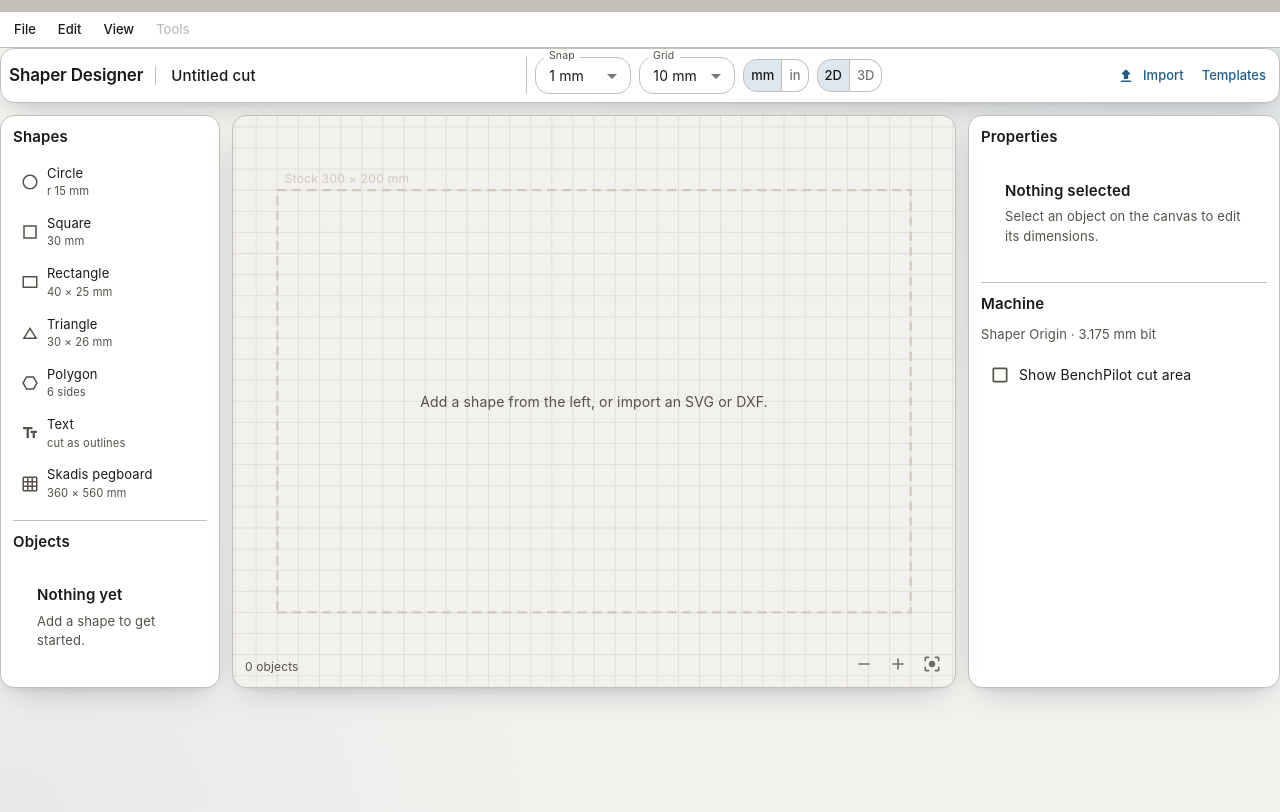
undo removes the object that was just added
Step 1. Click the button "Triangle 30 × 26 mm" → (67, 332), box [21, 316, 112, 349]
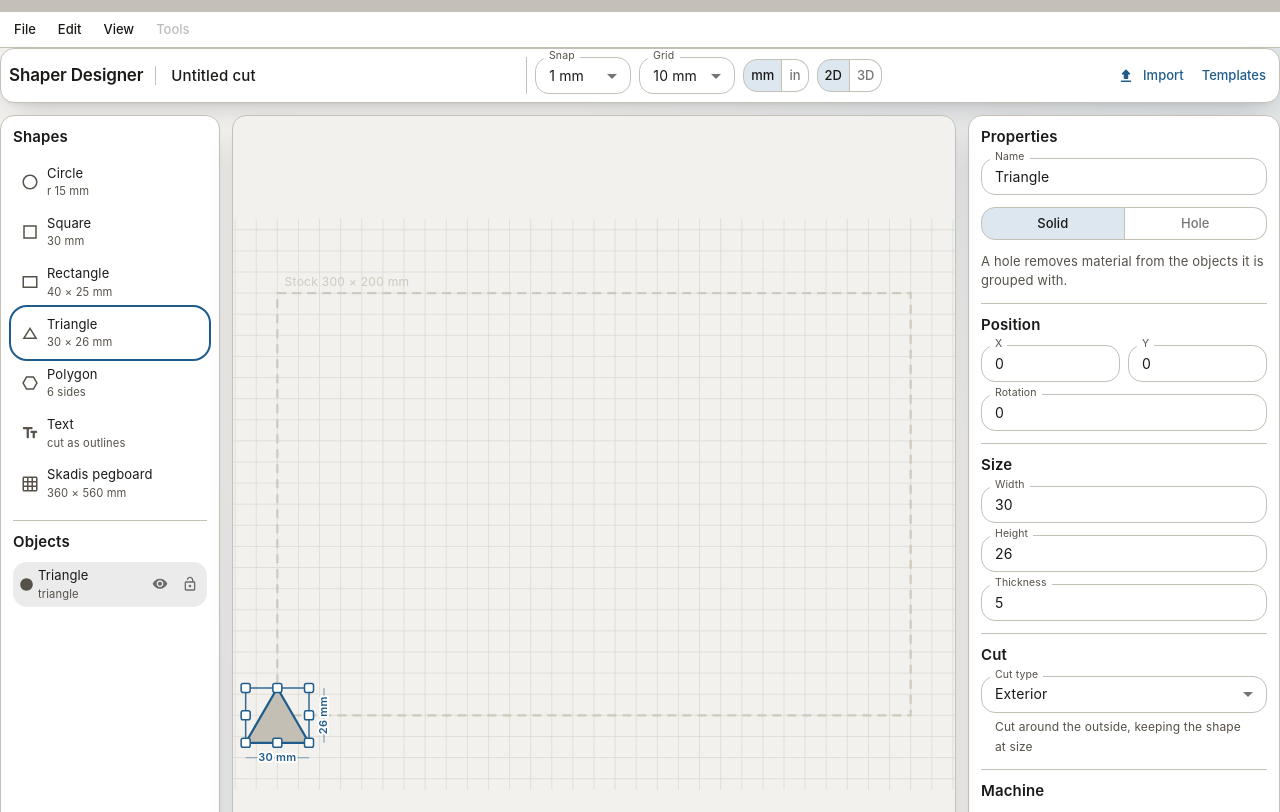
Step 2. Click the button "Edit" → (70, 30), box [48, 14, 92, 46]
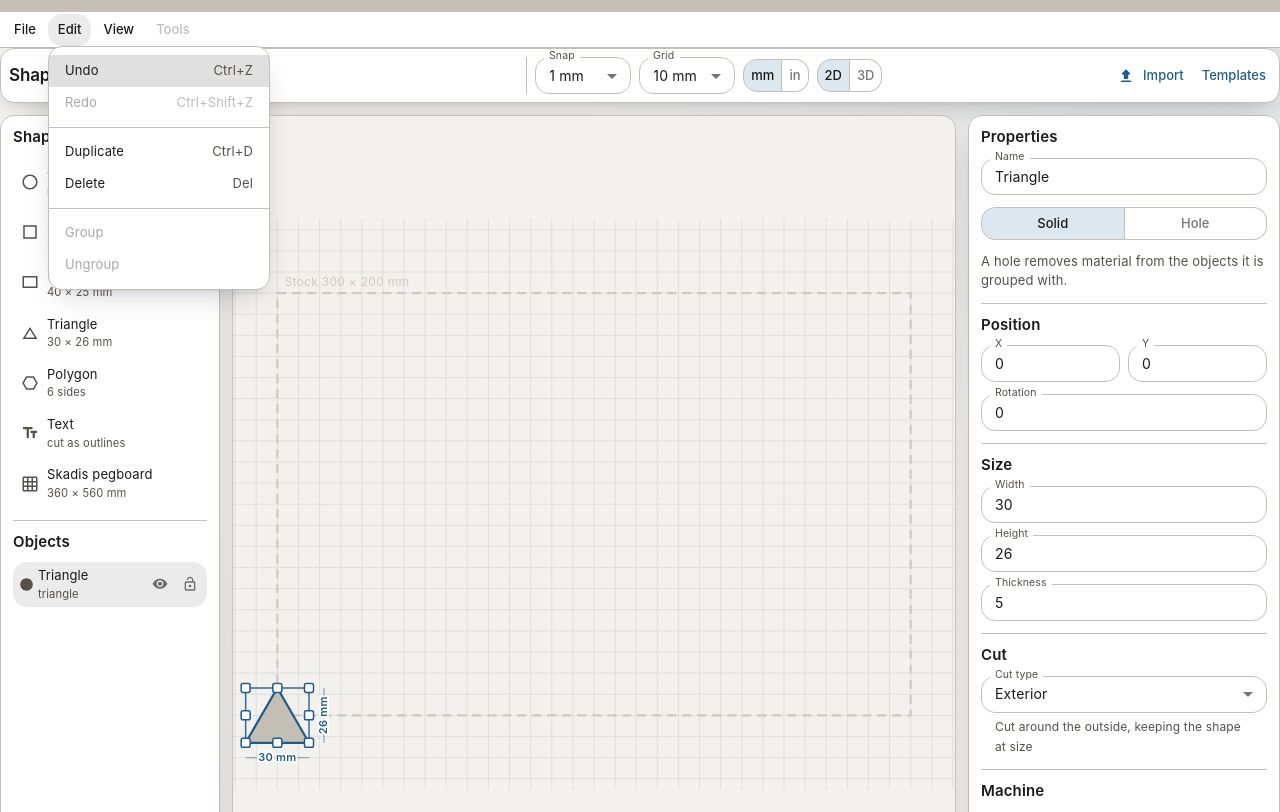
Step 3. Click the menu item "Undo Ctrl+Z" → (159, 71), box [49, 55, 269, 87]
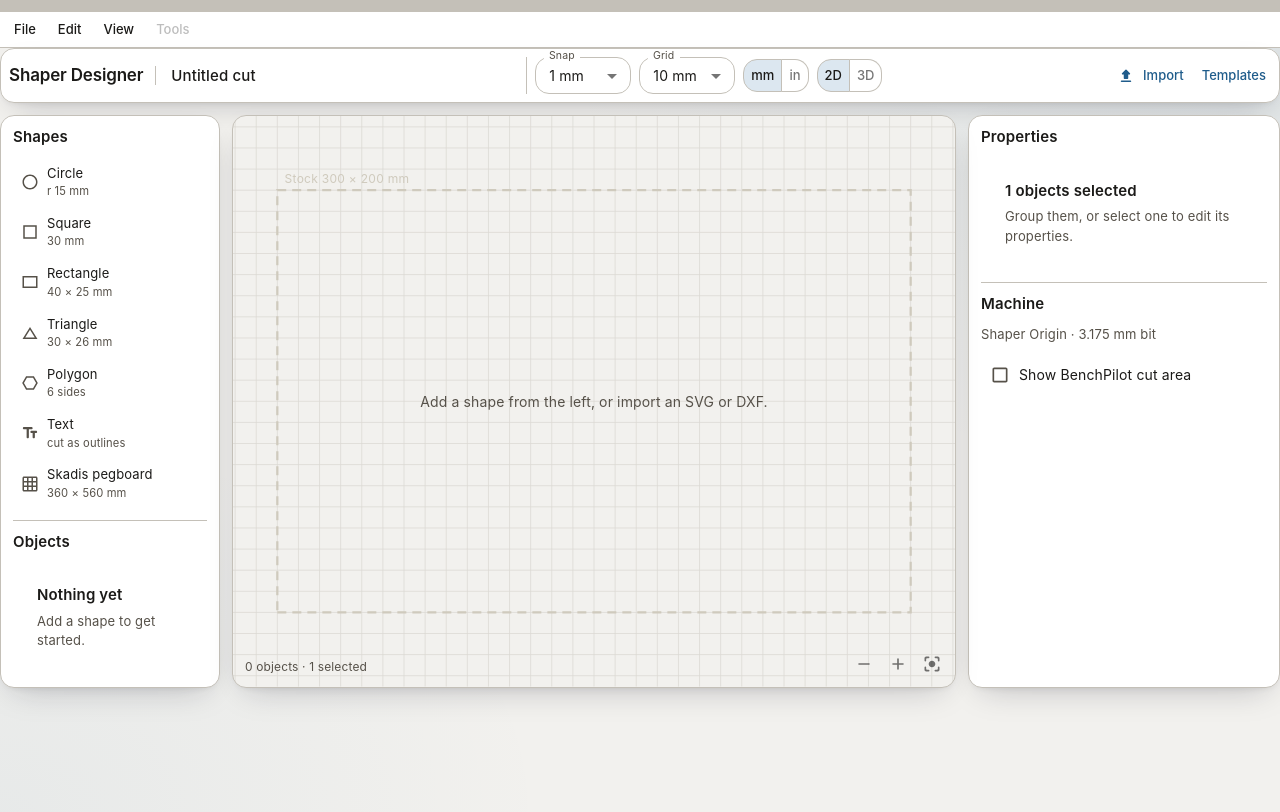
Expected: the text "0 objects" is shown, [245, 658, 367, 677]
